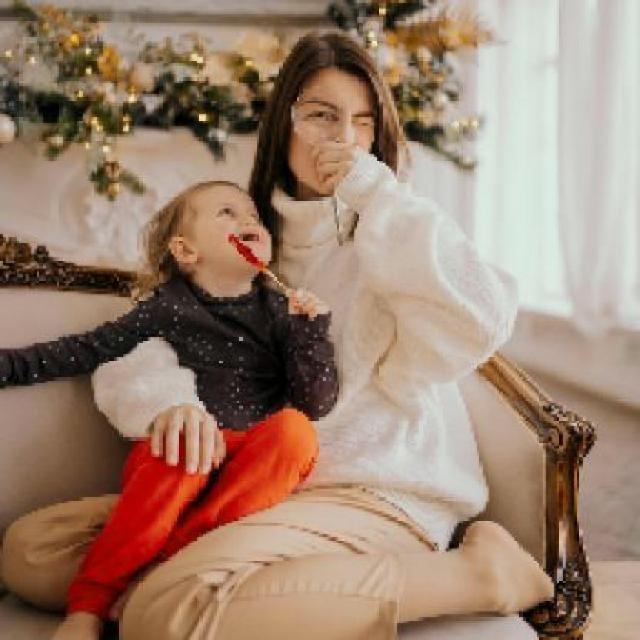child: (3, 177, 343, 637)
